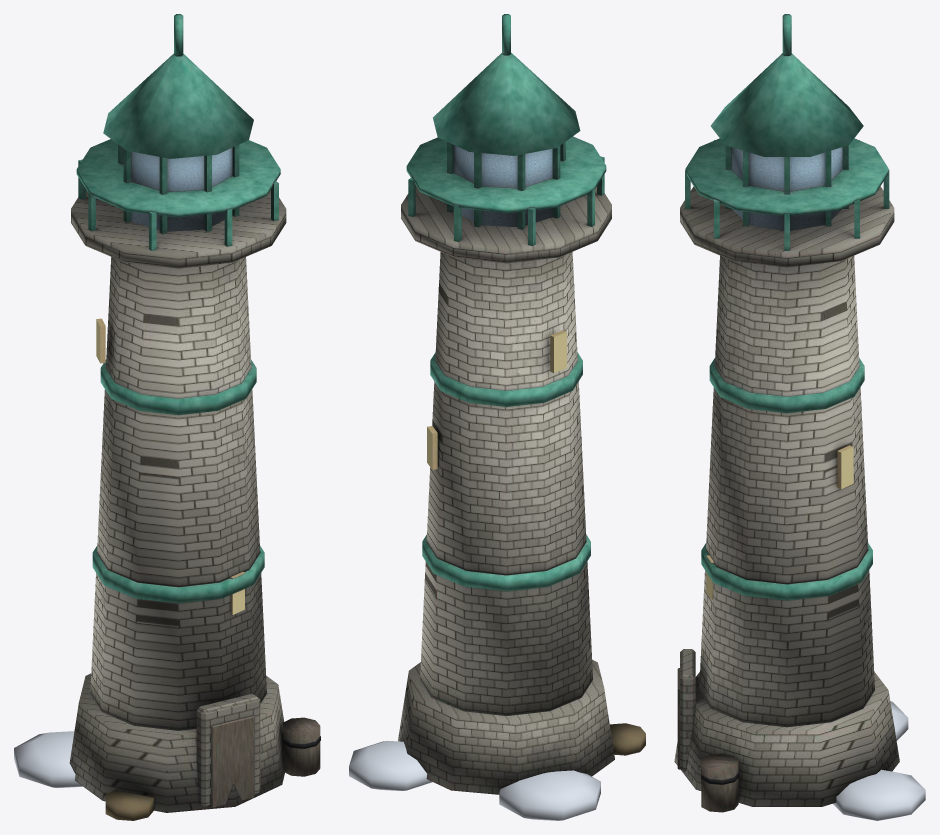
File: salz_tower.glb
The picture shows the model from 3 angles, left to right: view 1: azimuth 30°, elevation 25°; view 2: azimuth 150°, elevation 25°; view 3: azimuth 270°, elevation 25°; orthographic projection. The views are drawn at different scales.
Parts seen in each view (by area): view 1: salz_tower, Schnee; view 2: salz_tower, Schnee; view 3: salz_tower, Schnee.
Part boxes in pixels (<box>): salz_tower: <box>69,14,320,820</box>; Schnee: <box>14,731,82,788</box>; salz_tower: <box>398,14,645,794</box>; Schnee: <box>349,741,600,820</box>; salz_tower: <box>674,14,899,812</box>; Schnee: <box>833,701,925,820</box>.
Bounding box in the file's own units: 2.4 × 7.48 × 2.23.
Materials: 2 (1 with a texture image).
